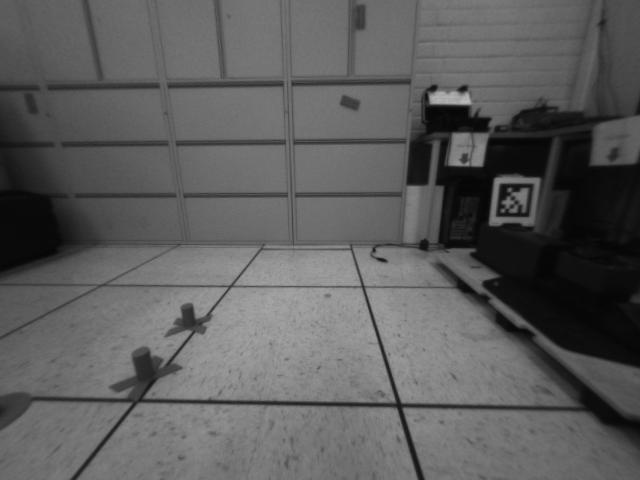X: (108, 344, 182, 402), (165, 303, 211, 336)
